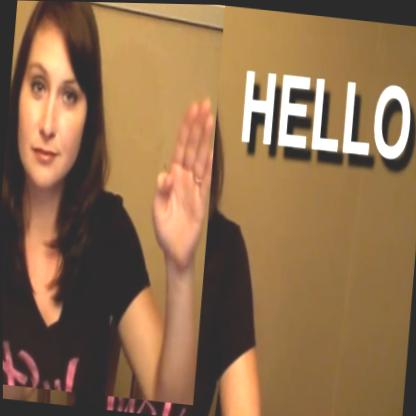Hello: (0, 0, 227, 405)
